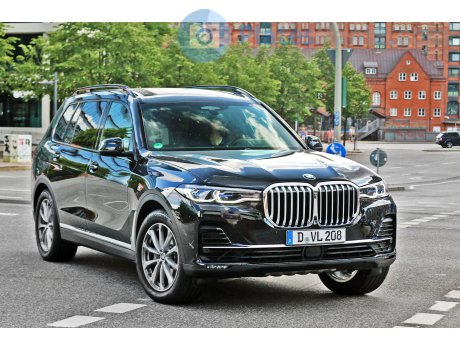License Plates: (302, 230, 342, 238)
